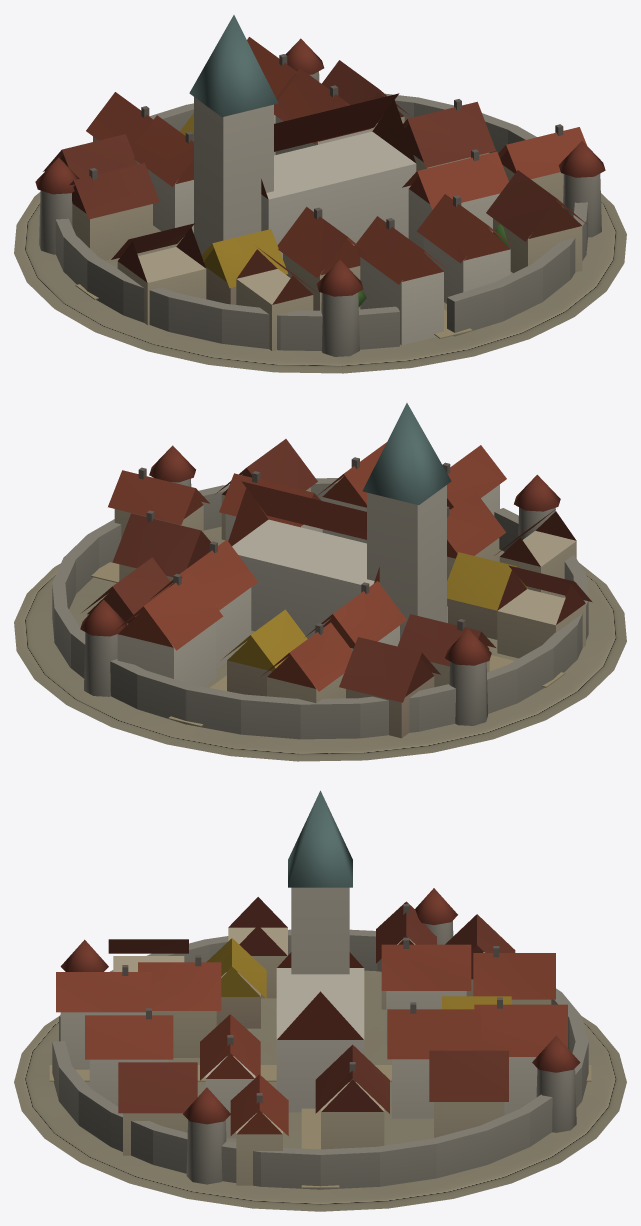
File: settlement_3_4.glb
The picture shows the model from 3 angles, top to bottom: view 1: azimuth 30°, elevation 25°; view 2: azimuth 150°, elevation 25°; view 3: azimuth 270°, elevation 25°; orthographic projection.
Parts seen in each view (by area): view 1: part_0; view 2: part_0; view 3: part_0.
Boxes of the visible parts, <box> form: part_0: <box>14,15,626,373</box>; part_0: <box>14,403,626,761</box>; part_0: <box>14,790,626,1211</box>.
Bounding box in the file's own units: 32.8 × 14.76 × 32.8.
